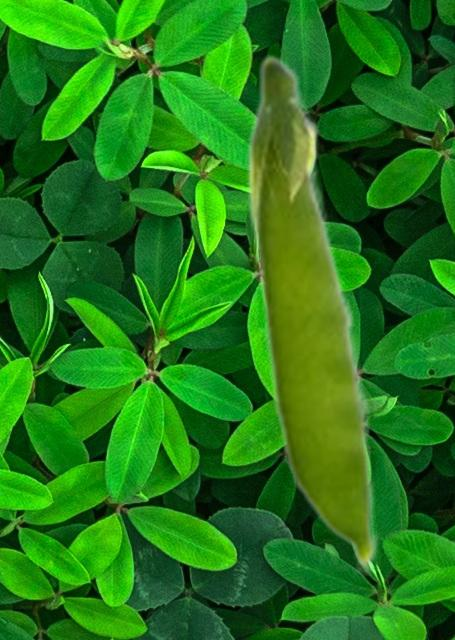pea: (245, 52, 379, 574)
